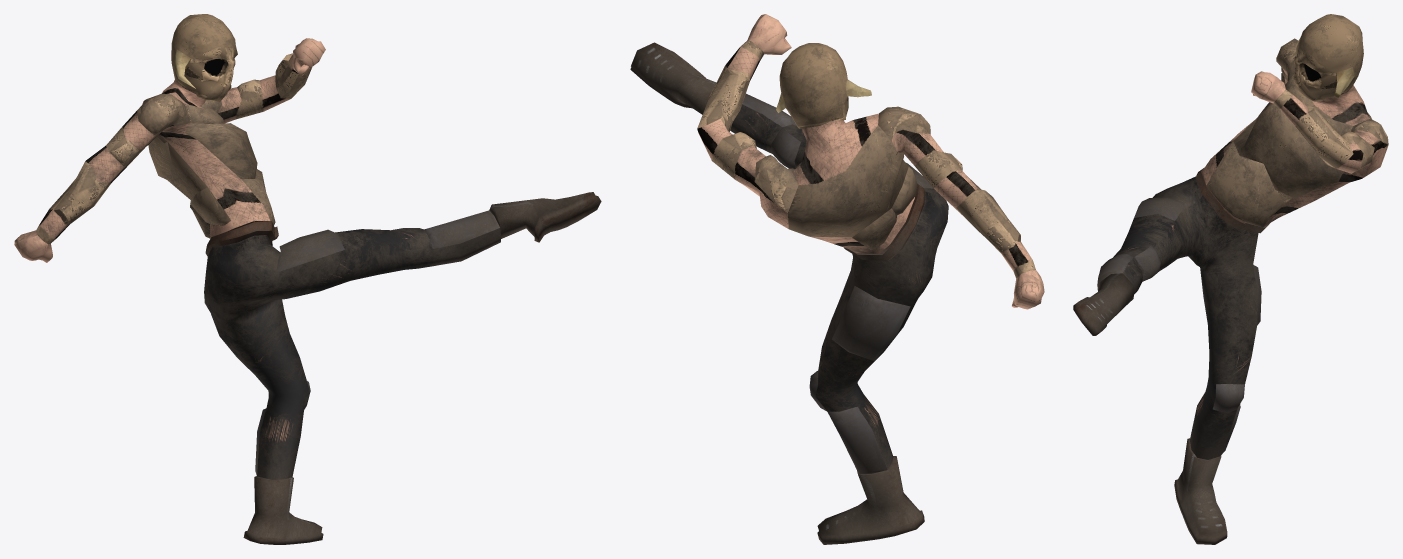
File: Anim_ataque_f1_npc1.0021.obj
3 views of the same model, side by side, from view 1: azimuth 30°, elevation 25°; view 2: azimuth 150°, elevation 25°; view 3: azimuth 270°, elevation 25° (orthographic). The views are drawn at different scales.
Visible parts, largest first — view 1: NPC2; view 2: NPC2; view 3: NPC2.
Boxes of the visible parts, box(x1,y1,x2,y2) form: NPC2: box(14, 14, 601, 544); NPC2: box(630, 14, 1044, 544); NPC2: box(1073, 14, 1388, 544).
Size of the model in its own units: 8.92 by 8.88 by 5.07.
